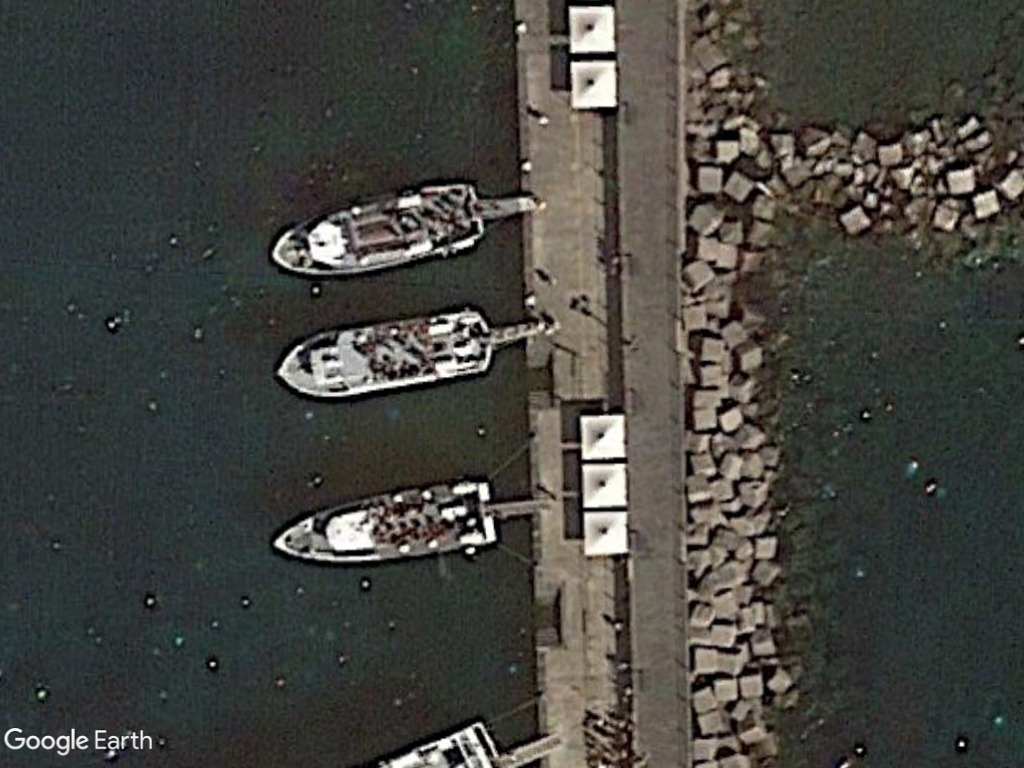boat: (266, 173, 487, 286), (270, 303, 498, 407), (265, 475, 496, 574)
